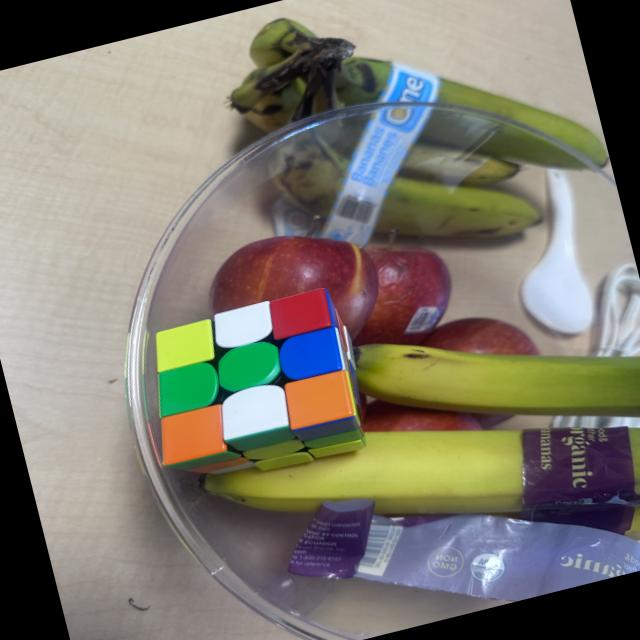sticker: (150, 400, 238, 480), (278, 367, 364, 448), (212, 378, 298, 457), (148, 356, 226, 419), (274, 325, 348, 386), (211, 336, 286, 396), (146, 316, 222, 374), (264, 284, 338, 342), (208, 300, 278, 352)
